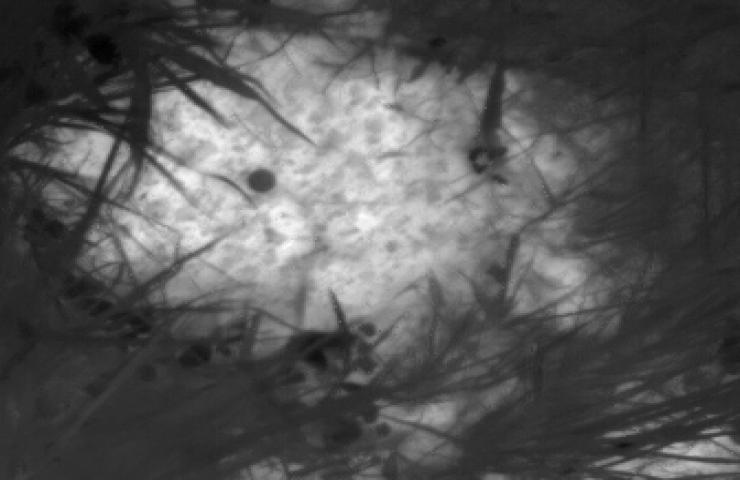landmines: (21, 14, 626, 355)
